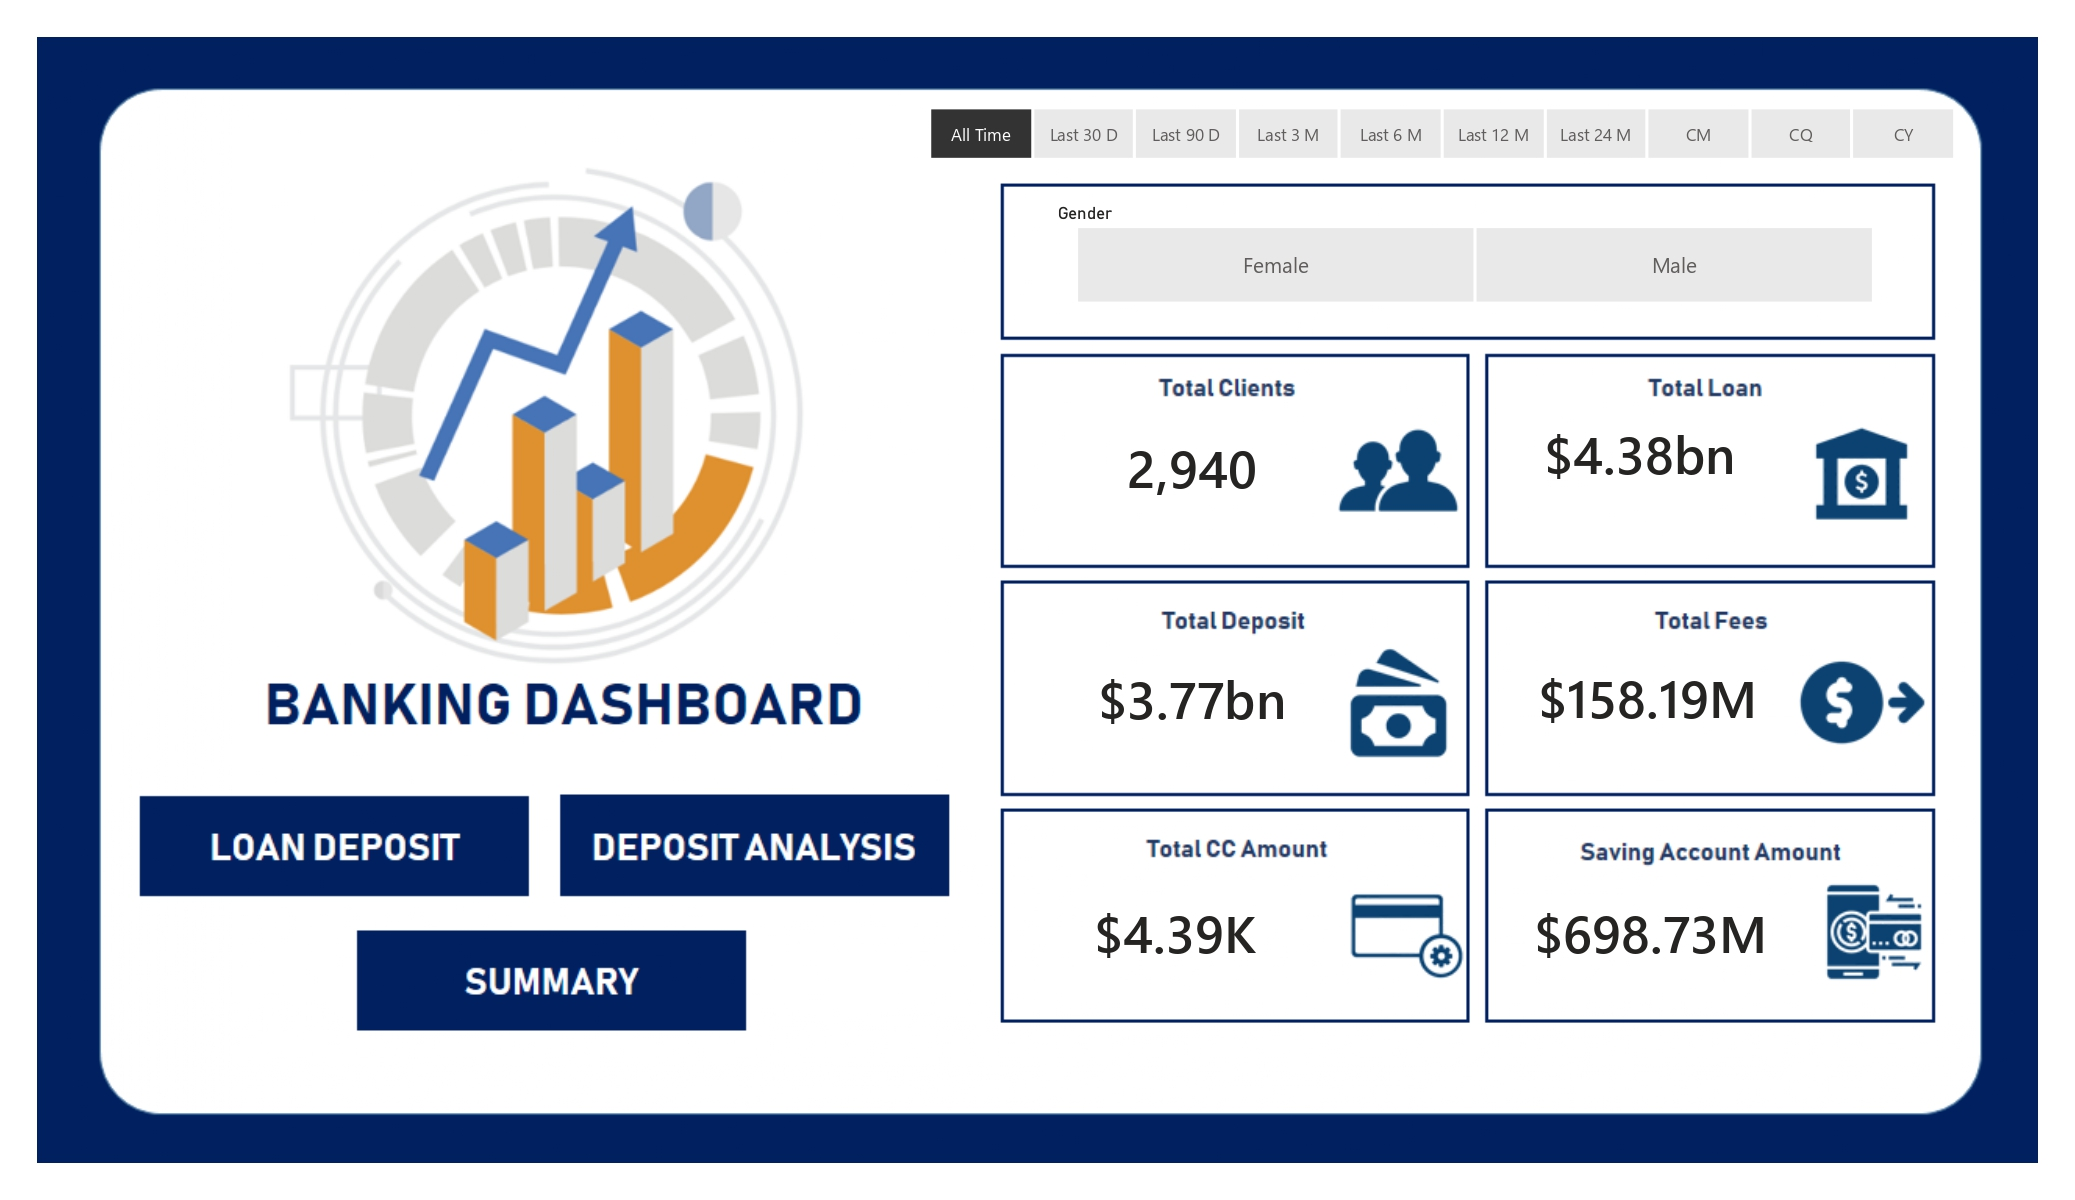

The dashboard page shown, as its layout file describes it:
{"tool":"powerbi","page":{"name":"Home","canvas":[1280,720],"ordinal":0},"visuals":[{"type":"slicer","fields":{"Values":["Gender.Gender"]},"box":[640.3,100.8,558.2,75],"z":0},{"type":"card","fields":{"Values":["DAX Measures.Total Clients"]},"box":[640.3,218.1,198.2,114.9],"z":1000},{"type":"card","fields":{"Values":["DAX Measures.Total Loan"]},"box":[933.4,208.7,184.1,114.9],"z":2000},{"type":"card","fields":{"Values":["DAX Measures.Total Deposit"]},"box":[640.3,374.1,198.2,98.5],"z":3000},{"type":"card","fields":{"Values":["DAX Measures.Total CC Amount"]},"box":[628.5,533.6,198.2,79.7],"z":4000},{"type":"card","fields":{"Values":["DAX Measures.Total Fees"]},"box":[938.1,372.9,185.3,99.7],"z":5000},{"type":"card","fields":{"Values":["DAX Measures.Savings Account"]},"box":[933.4,533.6,198.2,79.7],"z":6000},{"type":"actionButton","box":[63.3,483.1,253.3,65.7],"z":7000},{"type":"actionButton","box":[335.4,485.5,250.9,63.3],"z":8000},{"type":"actionButton","box":[205.2,573.4,255.6,61],"z":9000},{"type":"slicer","fields":{"Values":["Period.Name"]},"box":[546.4,38.7,703.6,45.7],"z":10000}]}

Visuals, with their boxes on the page's 1280x720 design canvas (x1, y1, x2, y2). These are canvas units, not pixel positions in the 2075x1200 screenshot, which may show the page scaled, cropped or inside an application window:
slicer - Gender.Gender: x1=640, y1=101, x2=1198, y2=176
card - DAX Measures.Total Clients: x1=640, y1=218, x2=838, y2=333
card - DAX Measures.Total Loan: x1=933, y1=209, x2=1118, y2=324
card - DAX Measures.Total Deposit: x1=640, y1=374, x2=838, y2=473
card - DAX Measures.Total CC Amount: x1=628, y1=534, x2=827, y2=613
card - DAX Measures.Total Fees: x1=938, y1=373, x2=1123, y2=473
card - DAX Measures.Savings Account: x1=933, y1=534, x2=1132, y2=613
actionButton: x1=63, y1=483, x2=317, y2=549
actionButton: x1=335, y1=486, x2=586, y2=549
actionButton: x1=205, y1=573, x2=461, y2=634
slicer - Period.Name: x1=546, y1=39, x2=1250, y2=84
